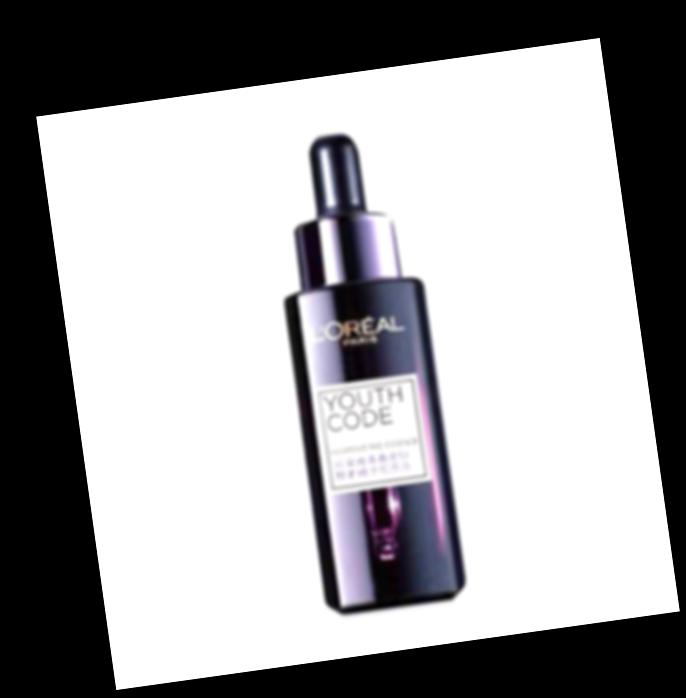cosmetic: (263, 124, 465, 615)
